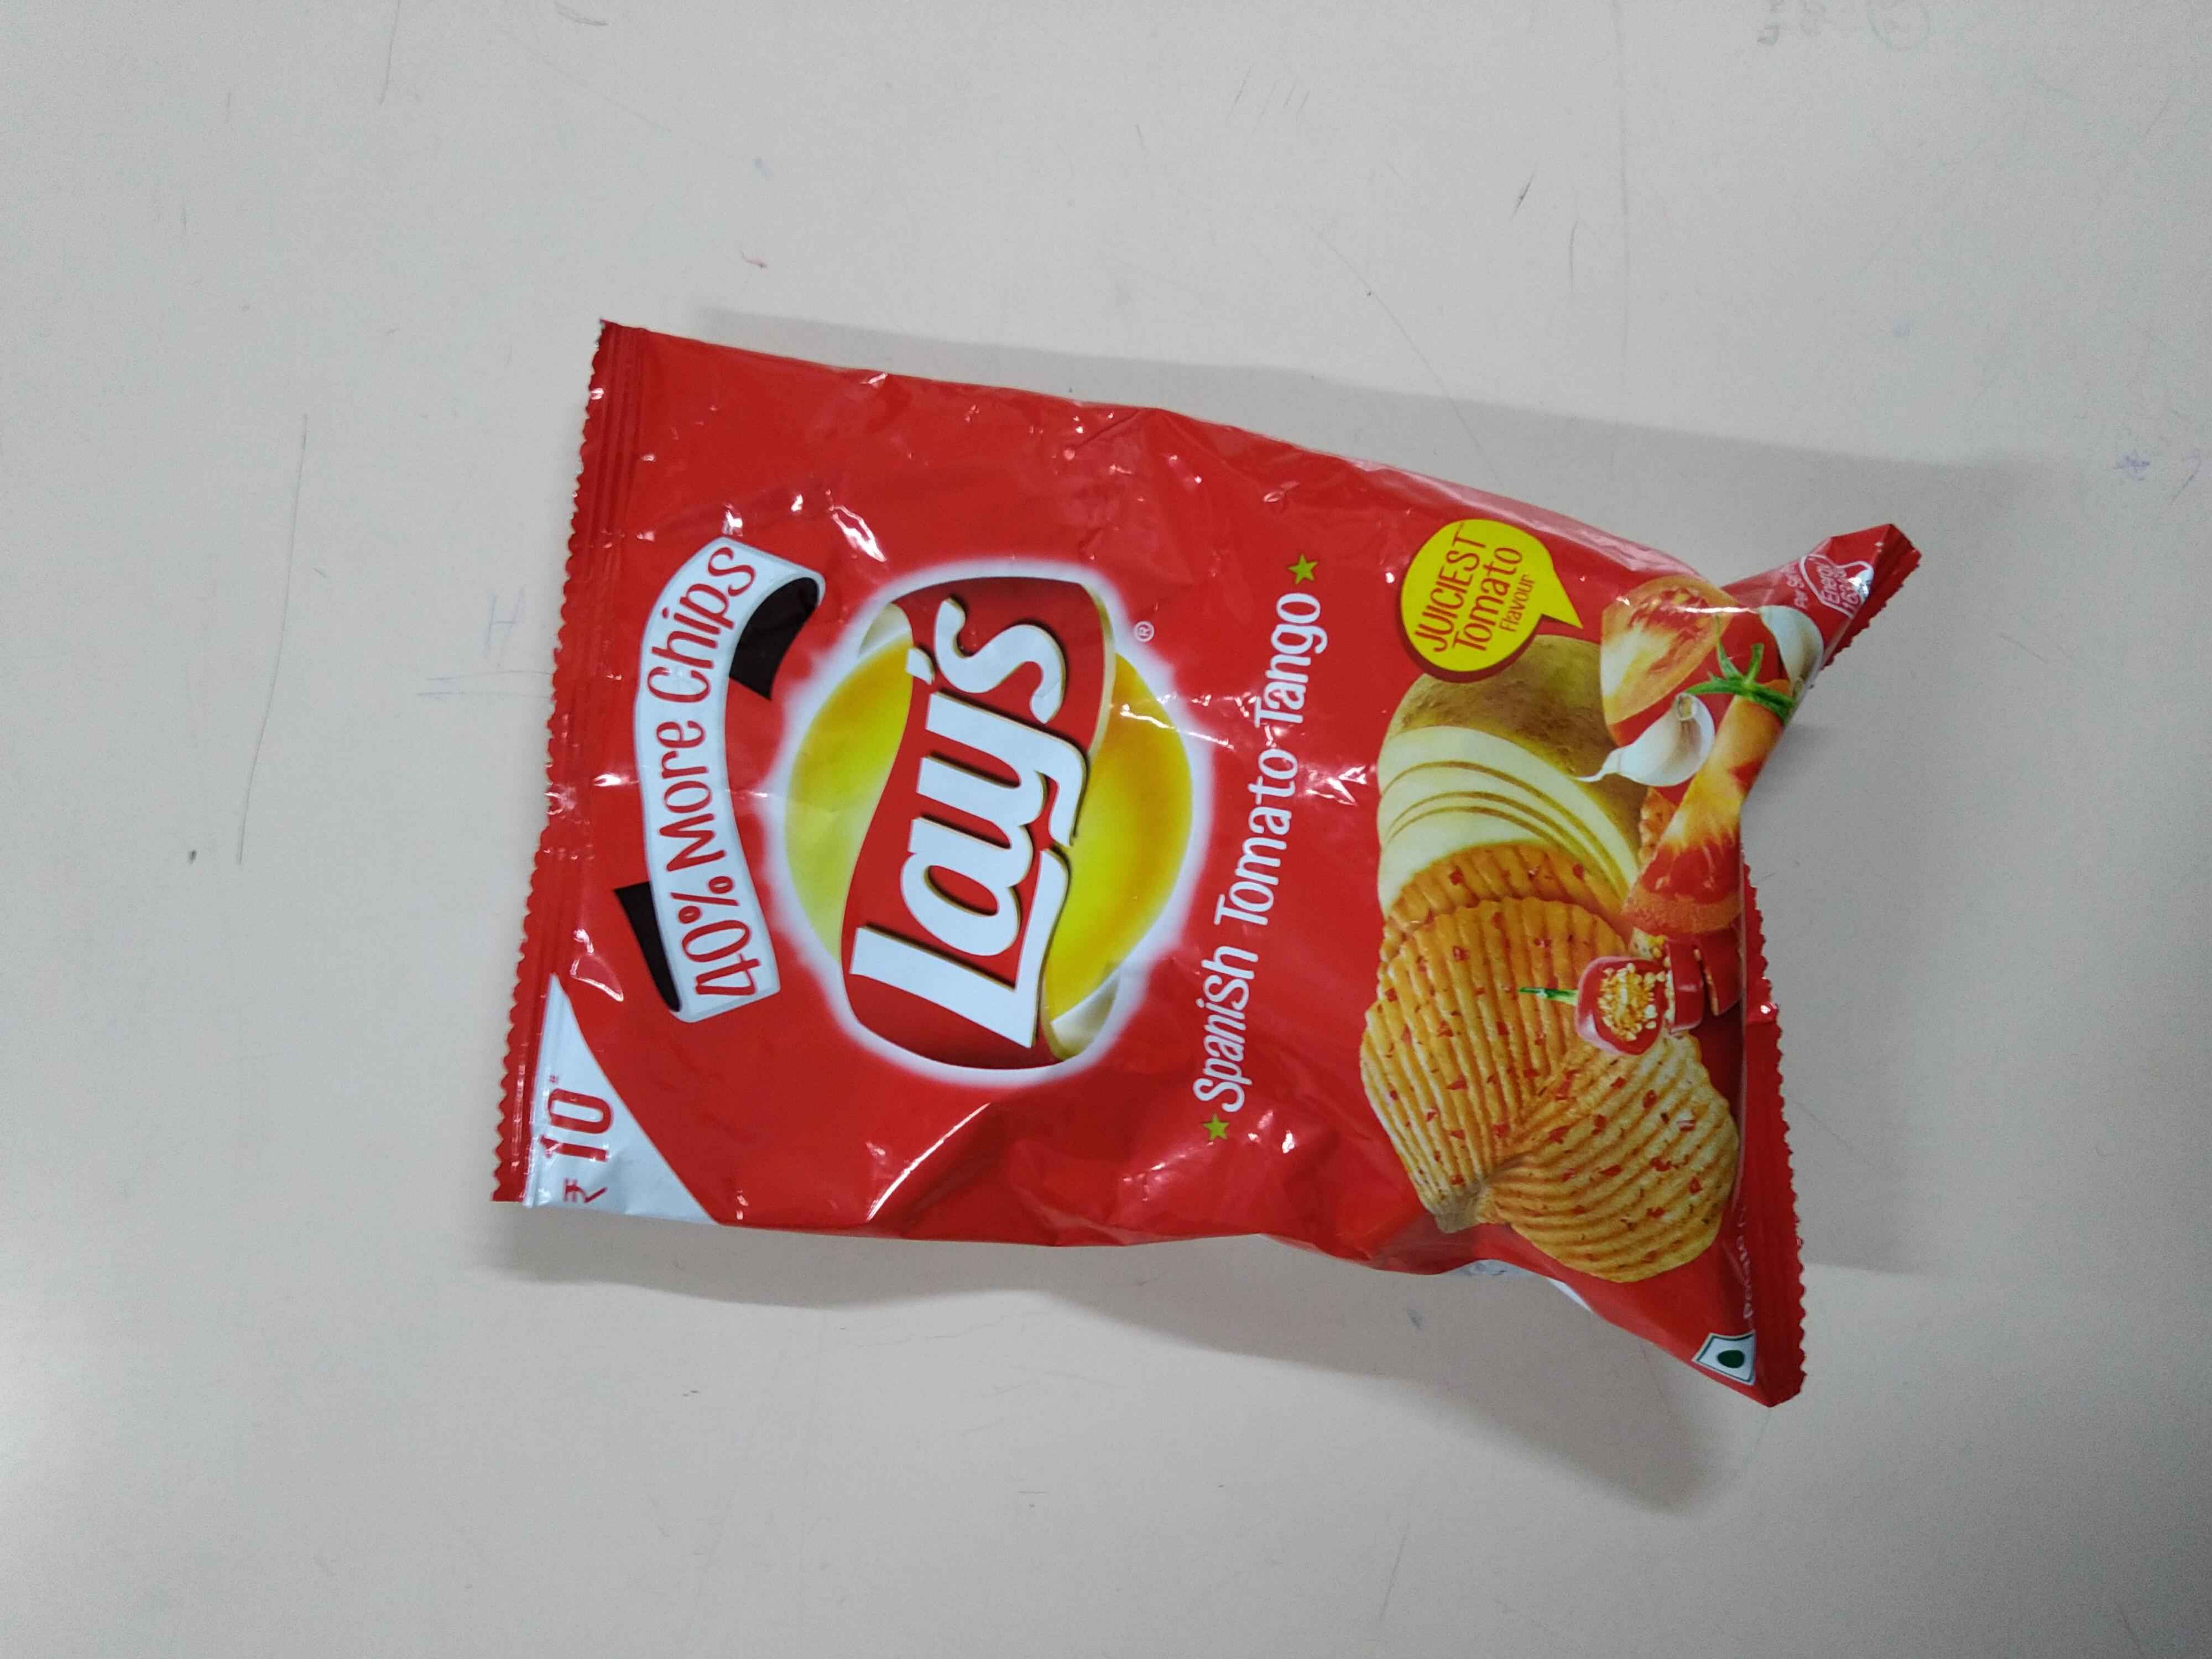Lays: (777, 559, 1204, 1054)
